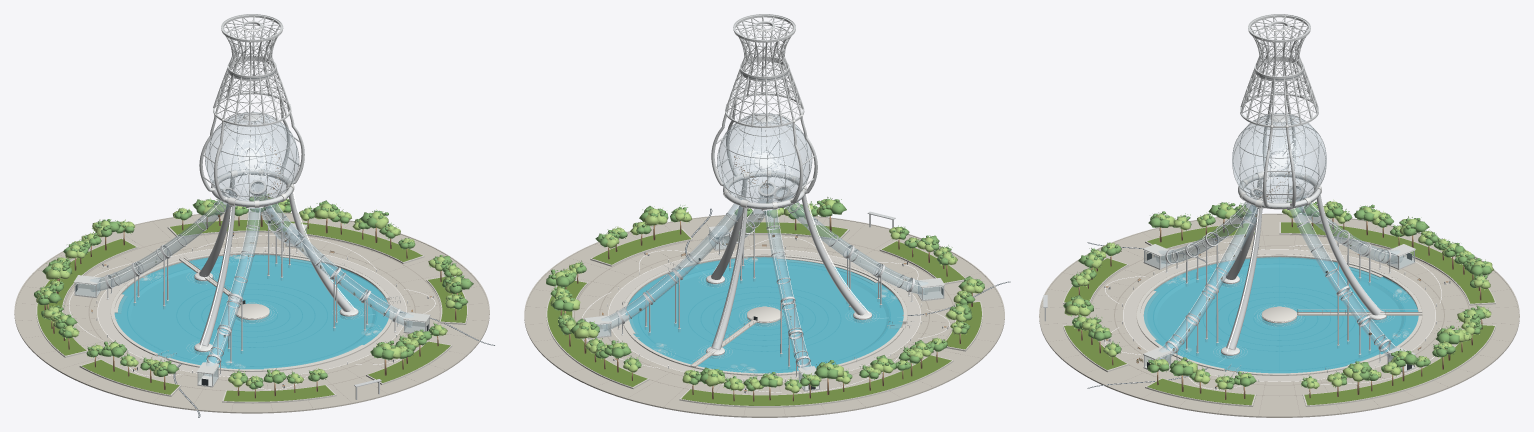
Rendered from q10a-solar-furnace.glb.
The picture shows the model from 3 angles, left to right: view 1: azimuth 30°, elevation 25°; view 2: azimuth 150°, elevation 25°; view 3: azimuth 270°, elevation 25°; orthographic projection.
Visible parts, largest first — view 1: PLAZA_GROUND, POOL_BASIN, POOL_WATER, FEED, FURNACE_SHELL, STRUCTURE_UPPER, STRUCTURE_LEGS, FURNACE_MULLIONS, STRUCTURE_CROWN_SUPPORTS, STRUCTURE_RING, FURNACE_SPARKS, POWER_LINES (+2 smaller); view 2: PLAZA_GROUND, POOL_BASIN, POOL_WATER, FEED, FURNACE_SHELL, STRUCTURE_UPPER, STRUCTURE_LEGS, FURNACE_MULLIONS, STRUCTURE_CROWN_SUPPORTS, STRUCTURE_RING, TREE_29, FURNACE_SPARKS (+4 smaller); view 3: PLAZA_GROUND, POOL_BASIN, POOL_WATER, FEED, FURNACE_SHELL, STRUCTURE_UPPER, STRUCTURE_LEGS, FURNACE_MULLIONS, STRUCTURE_CROWN_SUPPORTS, STRUCTURE_RING, TREE_11, TREE_23 (+3 smaller).
Boxes of the visible parts, x1,y1,x2,y2 form: PLAZA_GROUND: [14, 211, 489, 413]; POOL_BASIN: [110, 249, 400, 371]; POOL_WATER: [114, 254, 389, 369]; FEED: [73, 182, 430, 387]; FURNACE_SHELL: [205, 112, 298, 200]; STRUCTURE_UPPER: [213, 14, 291, 126]; STRUCTURE_LEGS: [194, 169, 358, 354]; FURNACE_MULLIONS: [205, 112, 299, 208]; STRUCTURE_CROWN_SUPPORTS: [199, 98, 304, 201]; STRUCTURE_RING: [211, 169, 293, 207]; FURNACE_SPARKS: [215, 126, 285, 195]; POWER_LINES: [173, 192, 495, 417]; PLAZA_GROUND: [524, 211, 1004, 417]; POOL_BASIN: [621, 254, 914, 375]; POOL_WATER: [626, 257, 903, 373]; FEED: [584, 184, 944, 391]; FURNACE_SHELL: [717, 113, 811, 202]; STRUCTURE_UPPER: [725, 14, 804, 127]; STRUCTURE_LEGS: [706, 172, 872, 358]; FURNACE_MULLIONS: [717, 113, 812, 210]; STRUCTURE_CROWN_SUPPORTS: [711, 99, 817, 203]; STRUCTURE_RING: [723, 170, 804, 209]; TREE_29: [570, 318, 599, 353]; FURNACE_SPARKS: [724, 122, 800, 200]; PLAZA_GROUND: [1039, 213, 1519, 417]; POOL_BASIN: [1136, 252, 1422, 375]; POOL_WATER: [1143, 257, 1418, 373]; FEED: [1136, 187, 1415, 372]; FURNACE_SHELL: [1232, 113, 1326, 202]; STRUCTURE_UPPER: [1240, 14, 1318, 127]; STRUCTURE_LEGS: [1221, 171, 1386, 358]; FURNACE_MULLIONS: [1232, 113, 1326, 210]; STRUCTURE_CROWN_SUPPORTS: [1262, 93, 1296, 207]; STRUCTURE_RING: [1238, 172, 1320, 209]; TREE_11: [1063, 295, 1093, 331]; TREE_23: [1342, 361, 1371, 394].
Bounding box in the file's own units: 152 × 103 × 152.
